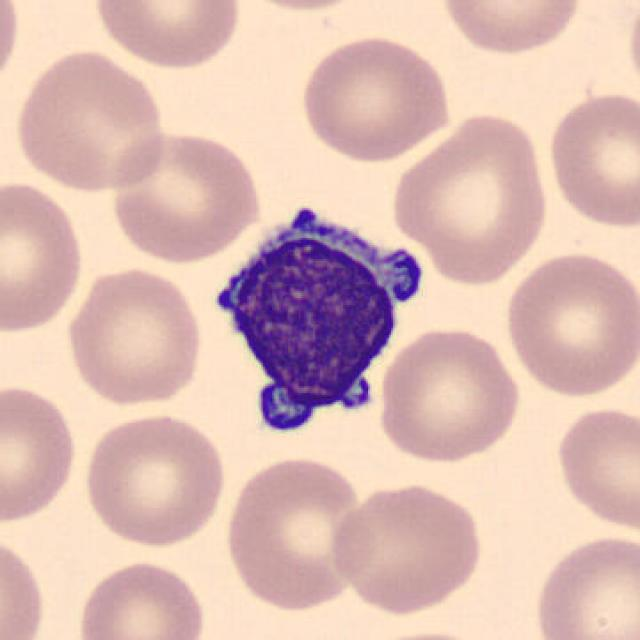Lymphocyte: (197, 194, 427, 450)
RBC: (386, 108, 553, 288), (219, 452, 373, 614), (11, 46, 169, 196), (105, 125, 265, 265), (329, 478, 487, 617), (295, 30, 455, 164), (78, 409, 230, 550), (62, 263, 208, 409), (375, 324, 525, 466), (502, 247, 638, 400), (0, 176, 89, 337), (544, 86, 640, 231), (528, 530, 640, 640), (73, 555, 210, 640), (0, 381, 80, 525), (551, 402, 638, 534), (88, 0, 245, 72), (437, 0, 587, 58), (0, 531, 50, 638), (0, 0, 25, 99), (347, 626, 501, 640), (225, 0, 378, 14), (624, 0, 640, 108)
